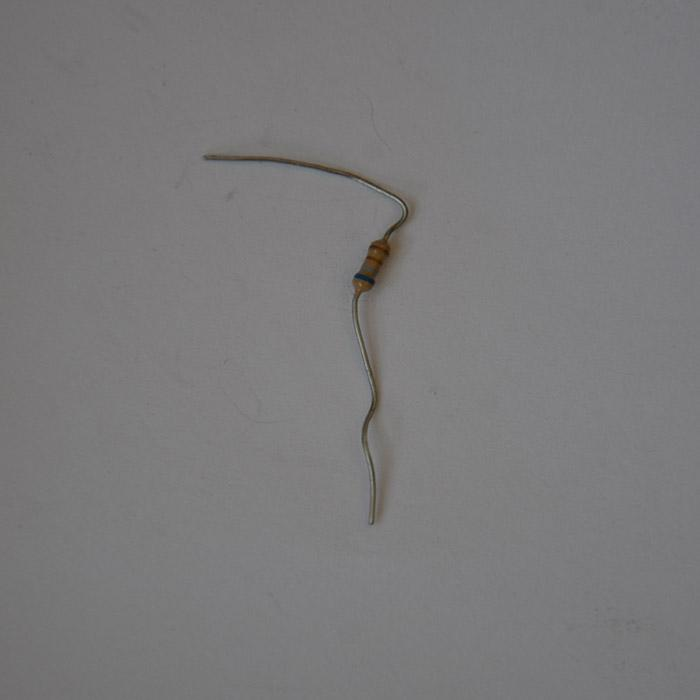resistor: (352, 236, 391, 294)
